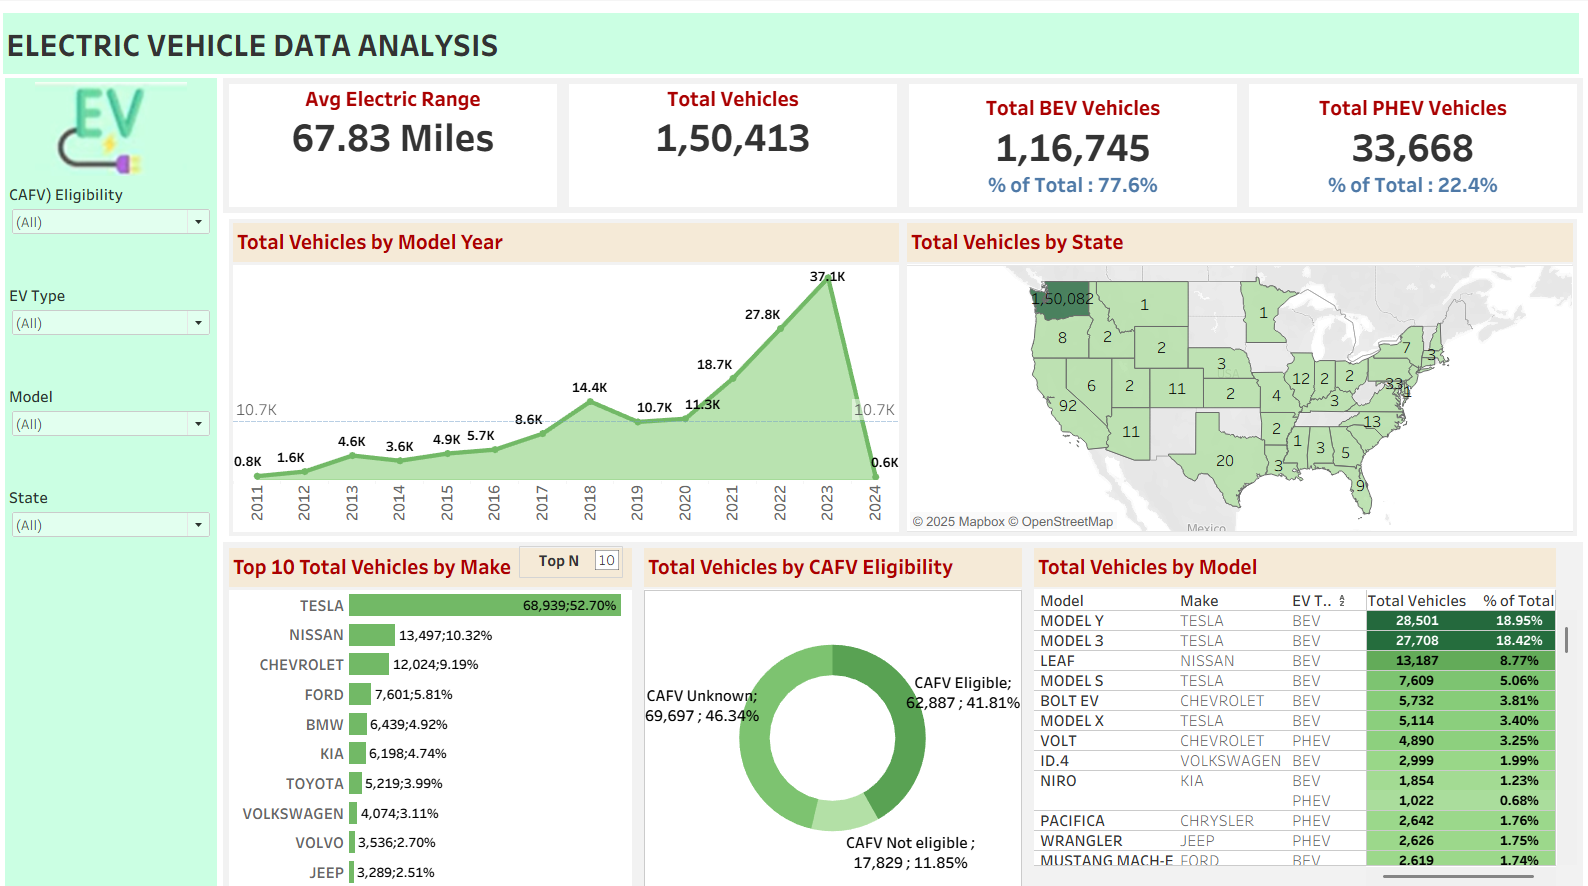

This screenshot's page, from the dashboard's own definition file:
{"tool":"tableau","page":{"name":"Dashboard 1","canvas":[1600,900],"ordinal":0},"visuals":[{"type":"title","box":[8,8,1584,69]},{"type":"image","param":"Image/Screenshot 2025-06-30 005529.png","box":[14,77,212,102]},{"type":"worksheet","title":"Avg Electric Range","mark":"Automatic","box":[232,77,340,135]},{"type":"worksheet","title":"Total Vehicles","mark":"Automatic","box":[572,77,340,135]},{"type":"worksheet","title":"Total BEV Vehicles","mark":"Automatic","box":[912,77,340,135]},{"type":"worksheet","title":"Total PHEV Vehicles ","mark":"Automatic","box":[1252,77,340,135]},{"type":"filter","title":"Total Vehicles by Model Year","param":"[federated.0mn8f2a1mzcta0196dsrt0axm8bn].[none:Clean Alternative Fuel Vehicle (C","box":[14,179,212,101]},{"type":"worksheet","title":"Total Vehicles by Model Year","mark":"Area","rows":["Calculation_824721707825827840","Calculation_824721707825827840"],"cols":["Model Year"],"box":[238,218,674,317]},{"type":"worksheet","title":"Total Vehicles by State","mark":"Multipolygon","box":[912,218,674,317]},{"type":"filter","title":"Total Vehicles by Model Year","param":"[federated.0mn8f2a1mzcta0196dsrt0axm8bn].[none:Electric Vehicle Type:nk]","box":[14,280,212,101]},{"type":"filter","title":"Total Vehicles by Model Year","param":"[federated.0mn8f2a1mzcta0196dsrt0axm8bn].[none:Model:nk]","box":[14,381,212,101]},{"type":"filter","title":"Total Vehicles by Model Year","param":"[federated.0mn8f2a1mzcta0196dsrt0axm8bn].[none:State:nk]","box":[14,482,212,101]},{"type":"worksheet","title":"Top 10 Total Vehicles by Make","mark":"Automatic","rows":["Make"],"cols":["Calculation_824721707825827840"],"box":[232,541,415,351]},{"type":"worksheet","title":"Total Vehicles by CAFV Eligibility","mark":"Pie","rows":["Calculation_824721707849994253","Calculation_824721707849994253"],"box":[647,541,390,351]},{"type":"worksheet","title":"Total Vehicles by Model","mark":"Square","rows":["Model","Make","Electric Vehicle Type"],"box":[1037,541,555,351]},{"type":"parameter","param":"[Parameters].[Parameter 1]","box":[528,545,104,32]},{"type":"blank","box":[14,583,212,101]},{"type":"blank","box":[14,684,212,101]},{"type":"blank","box":[14,785,212,101]}]}

Visuals, with their boxes in screenshot pixels (x1, y1, x2, y2), scaled from the page's 1600x900 canvas onto the 1588x886 screenshot:
title: x1=8, y1=8, x2=1580, y2=76
image: x1=14, y1=76, x2=224, y2=176
"Avg Electric Range" worksheet: x1=230, y1=76, x2=568, y2=209
"Total Vehicles" worksheet: x1=568, y1=76, x2=905, y2=209
"Total BEV Vehicles" worksheet: x1=905, y1=76, x2=1243, y2=209
"Total PHEV Vehicles " worksheet: x1=1243, y1=76, x2=1580, y2=209
"Total Vehicles by Model Year" filter: x1=14, y1=176, x2=224, y2=276
"Total Vehicles by Model Year" worksheet (Area marks): x1=236, y1=215, x2=905, y2=527
"Total Vehicles by State" worksheet (Multipolygon marks): x1=905, y1=215, x2=1574, y2=527
"Total Vehicles by Model Year" filter: x1=14, y1=276, x2=224, y2=375
"Total Vehicles by Model Year" filter: x1=14, y1=375, x2=224, y2=475
"Total Vehicles by Model Year" filter: x1=14, y1=475, x2=224, y2=574
"Top 10 Total Vehicles by Make" worksheet: x1=230, y1=533, x2=642, y2=878
"Total Vehicles by CAFV Eligibility" worksheet (Pie marks): x1=642, y1=533, x2=1029, y2=878
"Total Vehicles by Model" worksheet (Square marks): x1=1029, y1=533, x2=1580, y2=878
parameter: x1=524, y1=537, x2=627, y2=568
blank: x1=14, y1=574, x2=224, y2=673
blank: x1=14, y1=673, x2=224, y2=773
blank: x1=14, y1=773, x2=224, y2=872
